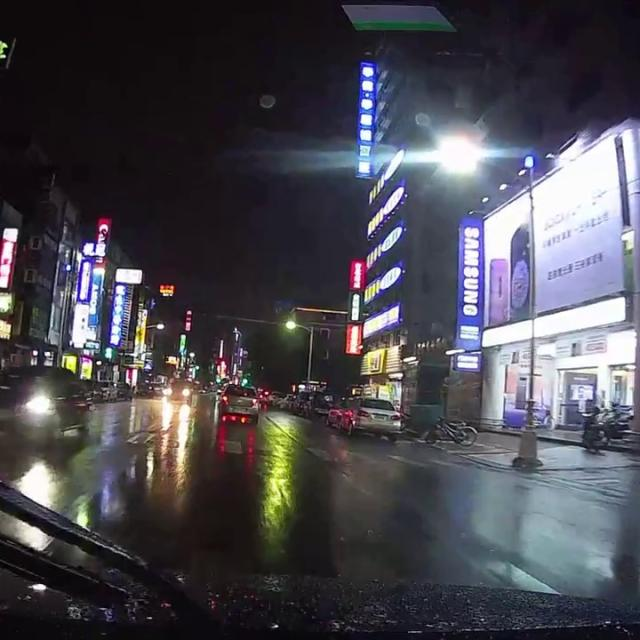Car: (0, 362, 97, 450), (338, 393, 399, 440), (215, 384, 261, 424), (304, 391, 334, 416), (161, 379, 194, 401), (77, 377, 102, 403), (326, 398, 351, 424), (291, 390, 313, 413), (97, 380, 118, 399), (133, 381, 154, 399), (114, 381, 130, 399), (279, 393, 295, 409), (265, 390, 280, 405)
